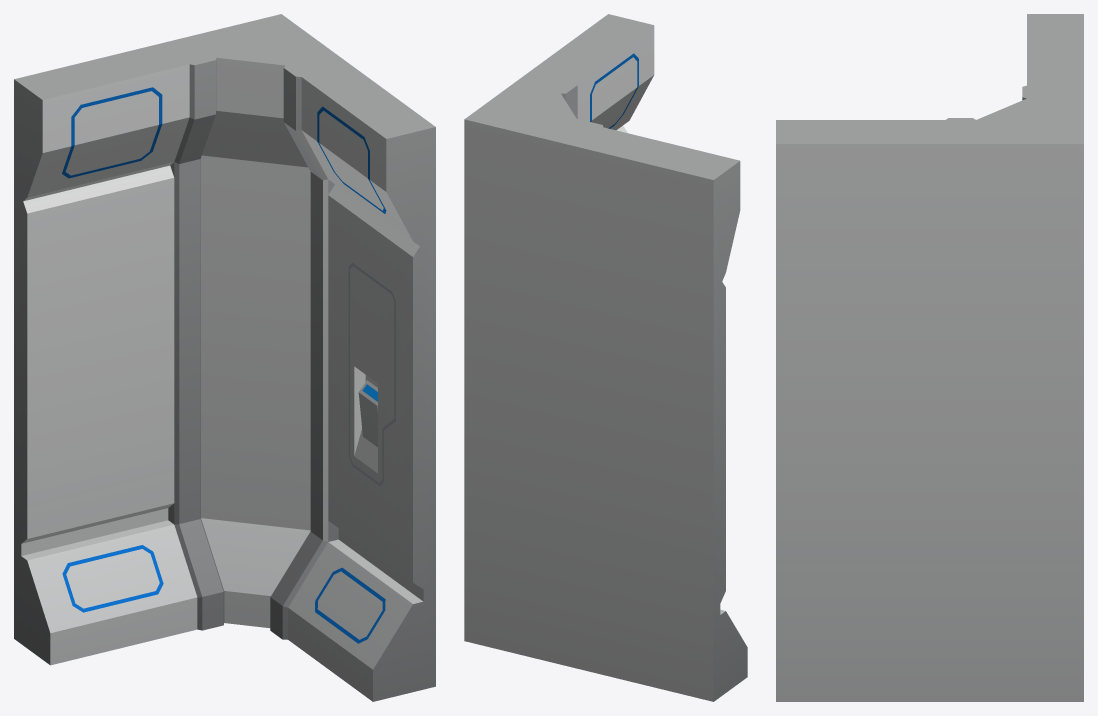
The model's file is Wall_type_A_003.fbx.
3 renders of one model, left to right at view 1: azimuth 30°, elevation 25°; view 2: azimuth 150°, elevation 25°; view 3: azimuth 270°, elevation 25°, orthographic. The views are drawn at different scales.
Parts seen in each view (by area): view 1: Wall_type_A_003; view 2: Wall_type_A_003; view 3: Wall_type_A_003.
Part boxes in pixels (<box>): Wall_type_A_003: <box>14,14,435,701</box>; Wall_type_A_003: <box>464,14,747,701</box>; Wall_type_A_003: <box>776,14,1083,701</box>.
Bounding box in the file's own units: 200 × 200 × 400.
